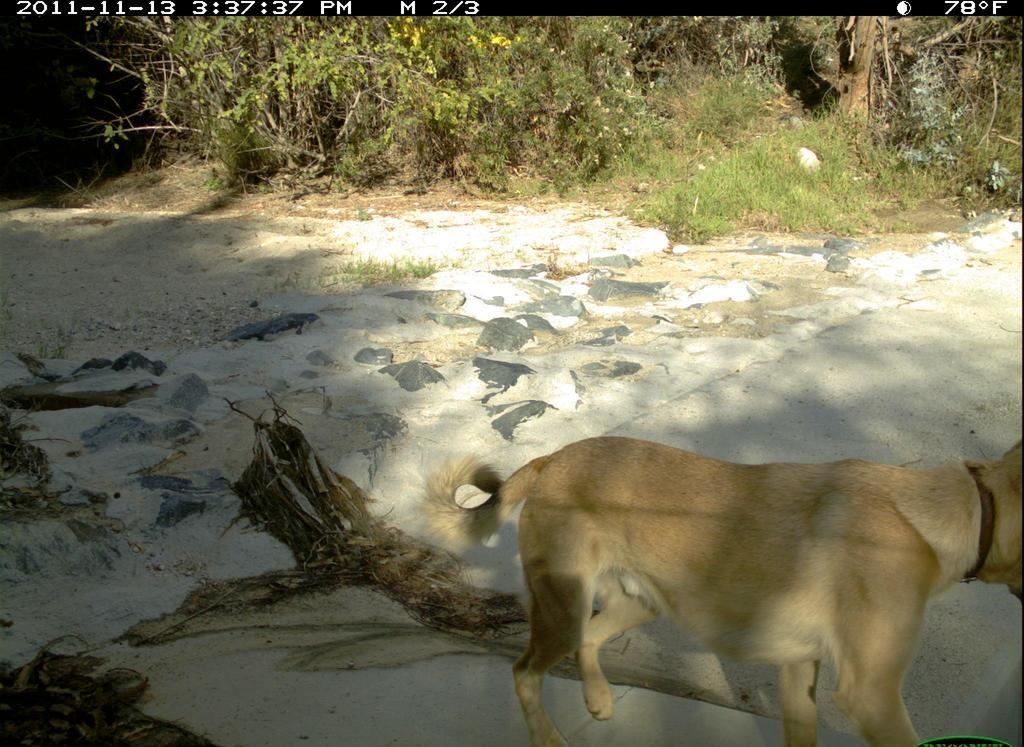dog: (417, 433, 1023, 747)
